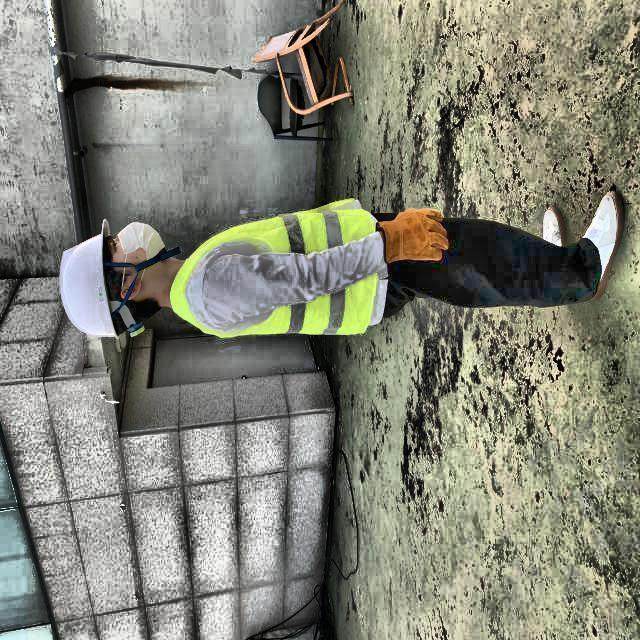safety_jacket: (165, 192, 382, 345)
